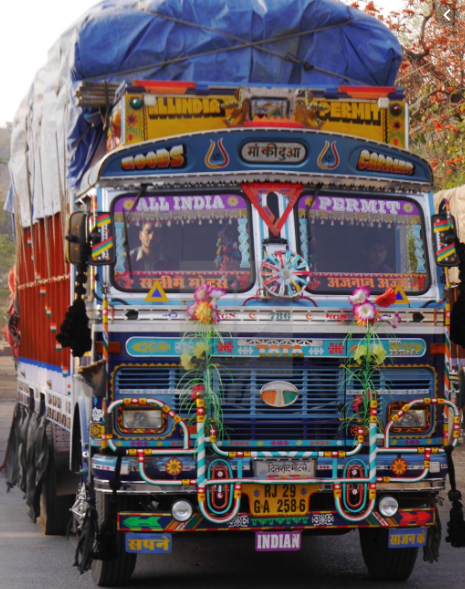truck: (7, 2, 449, 589)
